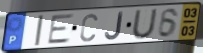6: (157, 8, 180, 39)
C: (79, 12, 99, 43)
E: (46, 13, 76, 46)
I: (34, 14, 45, 48)
J: (104, 11, 124, 41)
U: (131, 7, 159, 40)
